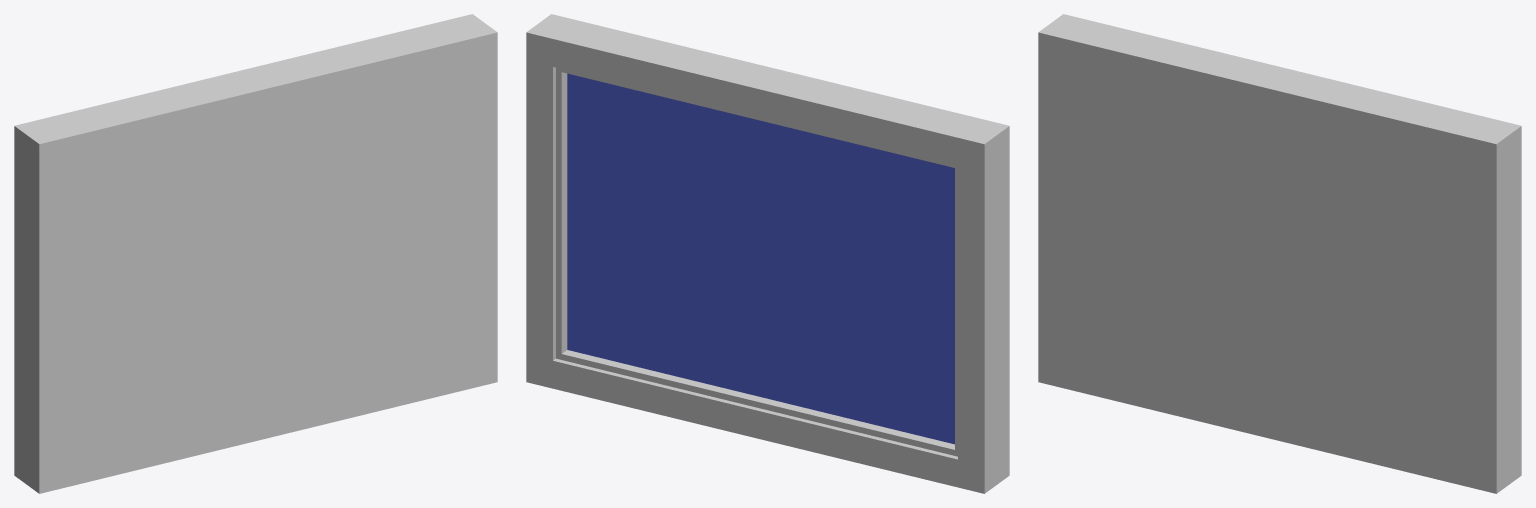
File: model_painting_hang_01.fbx
The picture shows the model from 3 angles, left to right: view 1: azimuth 30°, elevation 25°; view 2: azimuth 150°, elevation 25°; view 3: azimuth 330°, elevation 25°; orthographic projection.
Parts seen in each view (by area): view 1: Cube.009; view 2: Cube.009; view 3: Cube.009.
Part boxes in pixels (left/top/right/bottom): Cube.009: left=14, top=14, right=497, bottom=493; Cube.009: left=526, top=14, right=1009, bottom=493; Cube.009: left=1038, top=14, right=1521, bottom=493.
Bounding box in the file's own units: 126 × 91.93 × 12.
